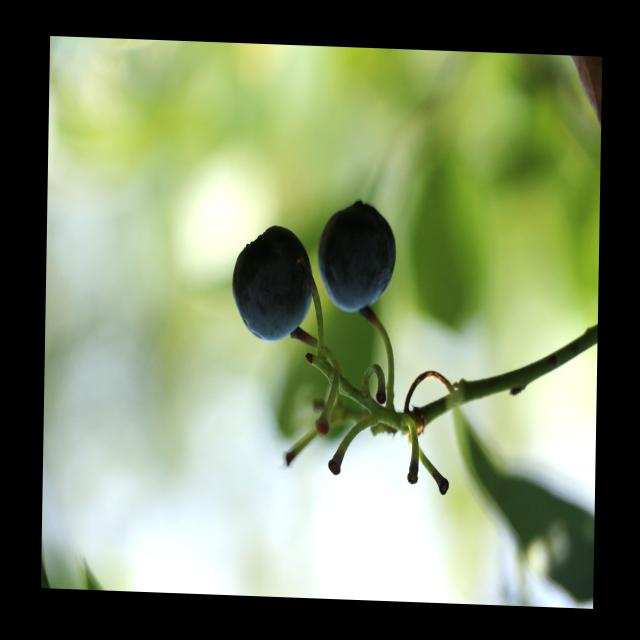blueberry: (228, 217, 312, 345), (314, 202, 400, 318)
